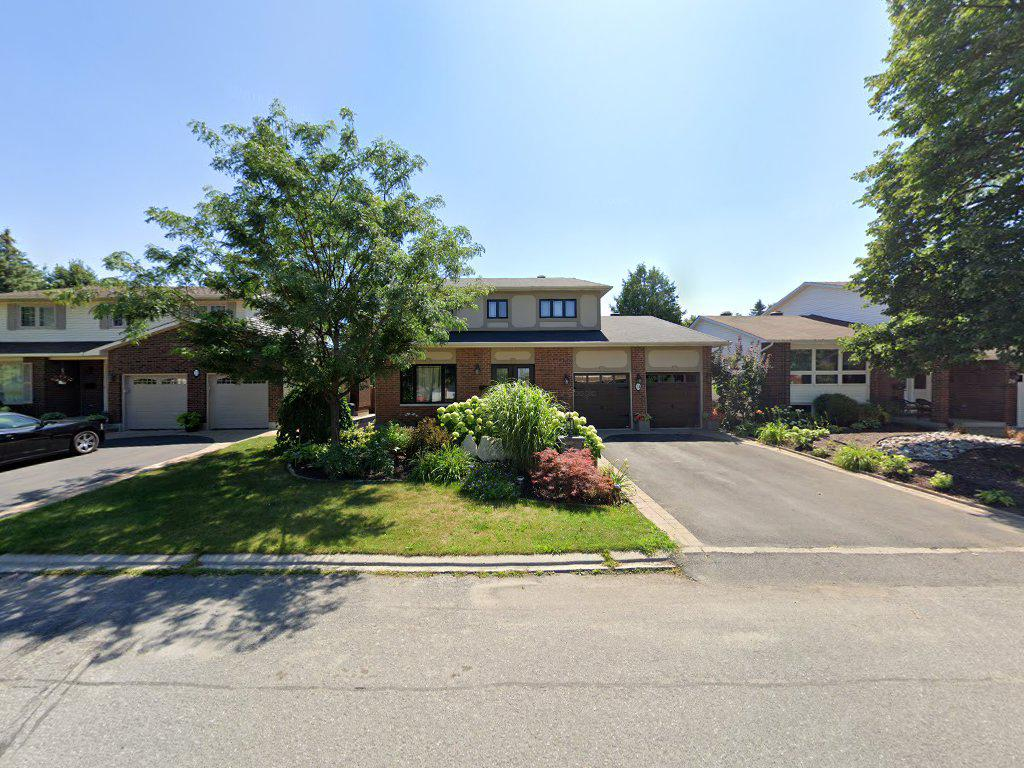trunk: (326, 387, 345, 460)
